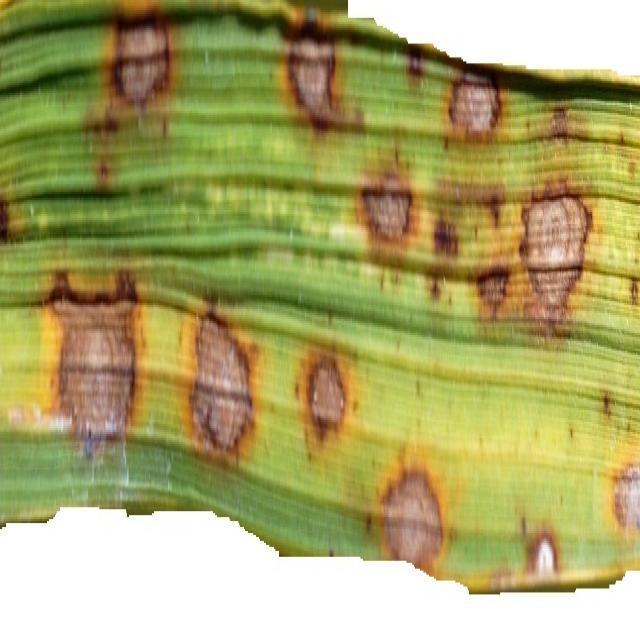brownspots: (49, 255, 144, 466), (520, 180, 594, 351), (187, 305, 253, 472), (102, 8, 185, 127), (381, 456, 444, 570), (601, 386, 640, 551), (359, 165, 421, 268), (471, 188, 515, 332), (286, 12, 340, 129), (300, 333, 354, 444), (428, 188, 460, 337), (544, 81, 582, 180), (518, 497, 562, 577), (443, 75, 503, 129), (85, 117, 113, 200), (612, 122, 636, 194), (402, 46, 427, 94), (1, 168, 8, 312), (627, 274, 640, 304), (604, 374, 611, 424)
